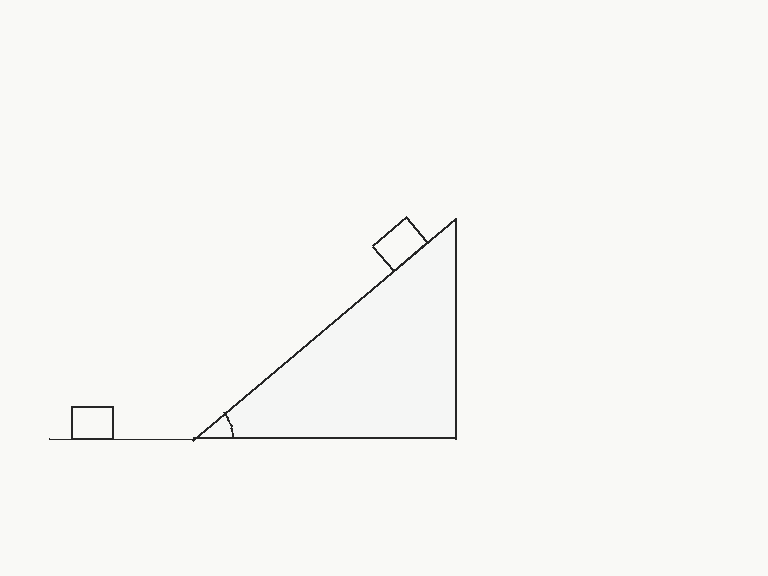block: (370, 215, 429, 272), (69, 405, 115, 440)
ramp: (191, 216, 457, 440)
